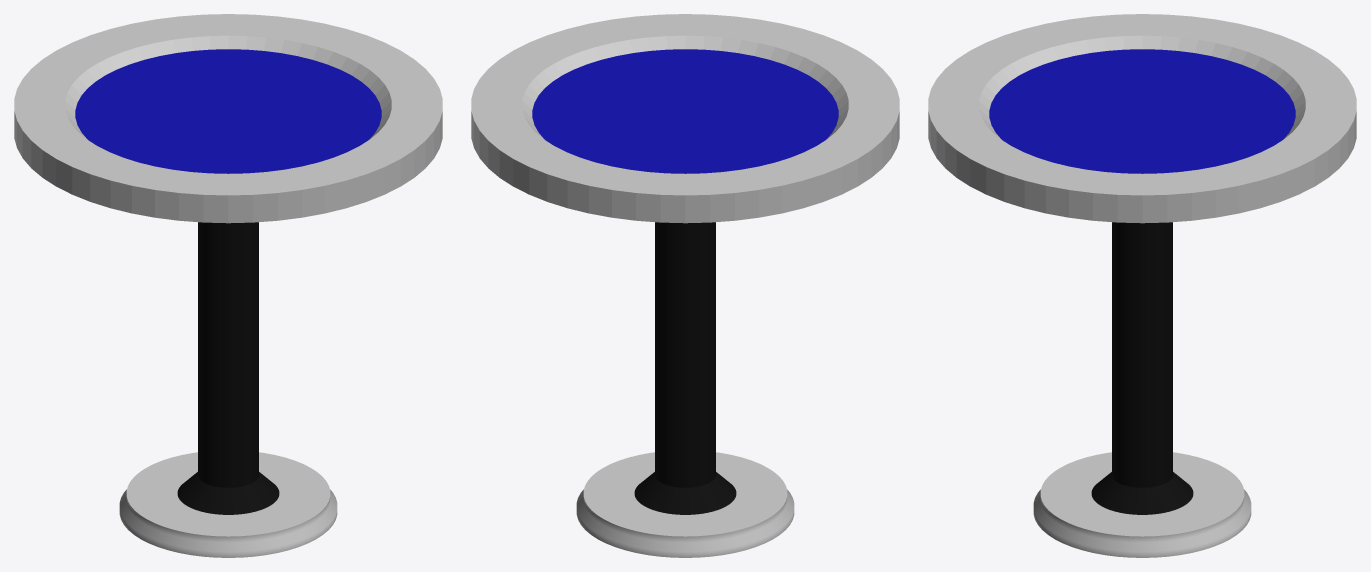
Rendered from center_table_001.fbx.
3 views of the same model, side by side, from view 1: azimuth 30°, elevation 25°; view 2: azimuth 150°, elevation 25°; view 3: azimuth 270°, elevation 25° (orthographic).
Visible parts, largest first — view 1: Cylinder008; view 2: Cylinder008; view 3: Cylinder008.
Boxes of the visible parts, left/top/right/bottom form: Cylinder008: left=14, top=14, right=442, bottom=557; Cylinder008: left=471, top=14, right=899, bottom=557; Cylinder008: left=928, top=14, right=1356, bottom=557.
Bounding box in the file's own units: 42.05 × 44 × 41.98.
